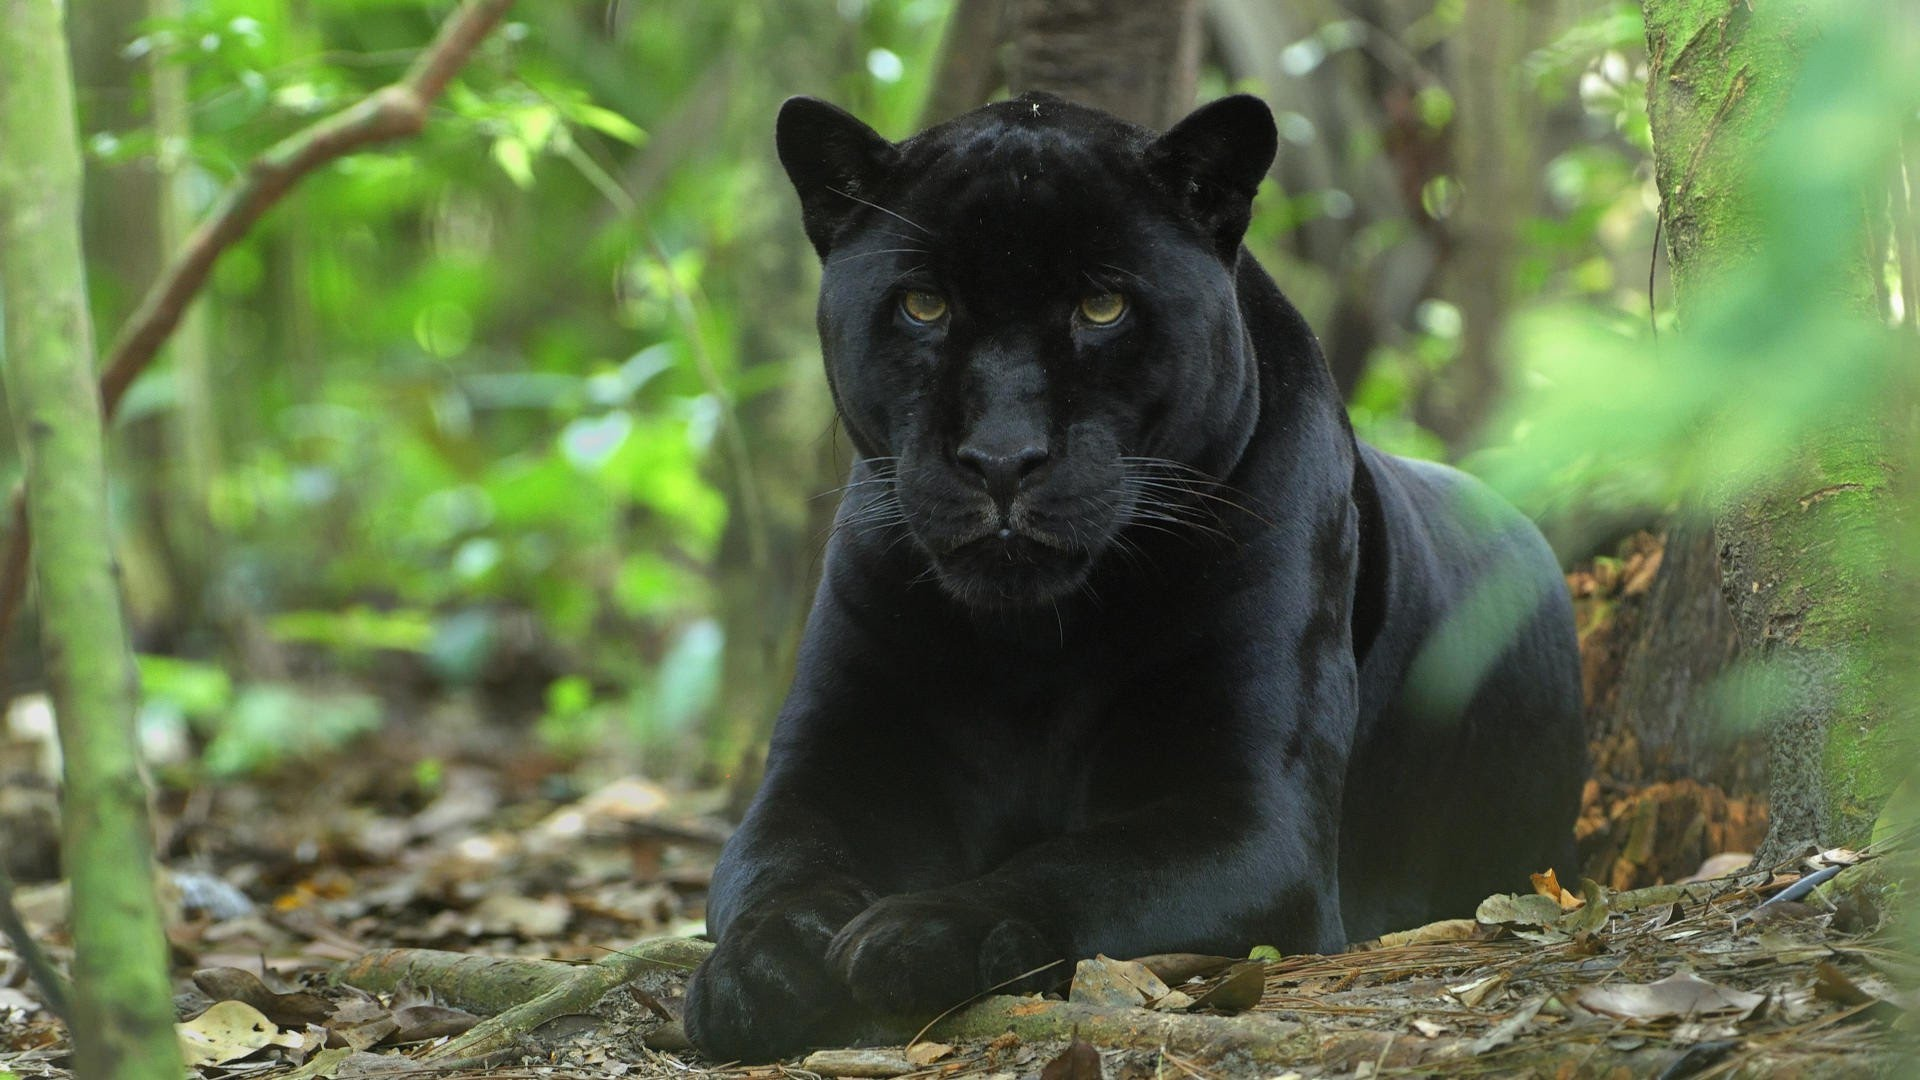panther: (705, 83, 1598, 1080)
